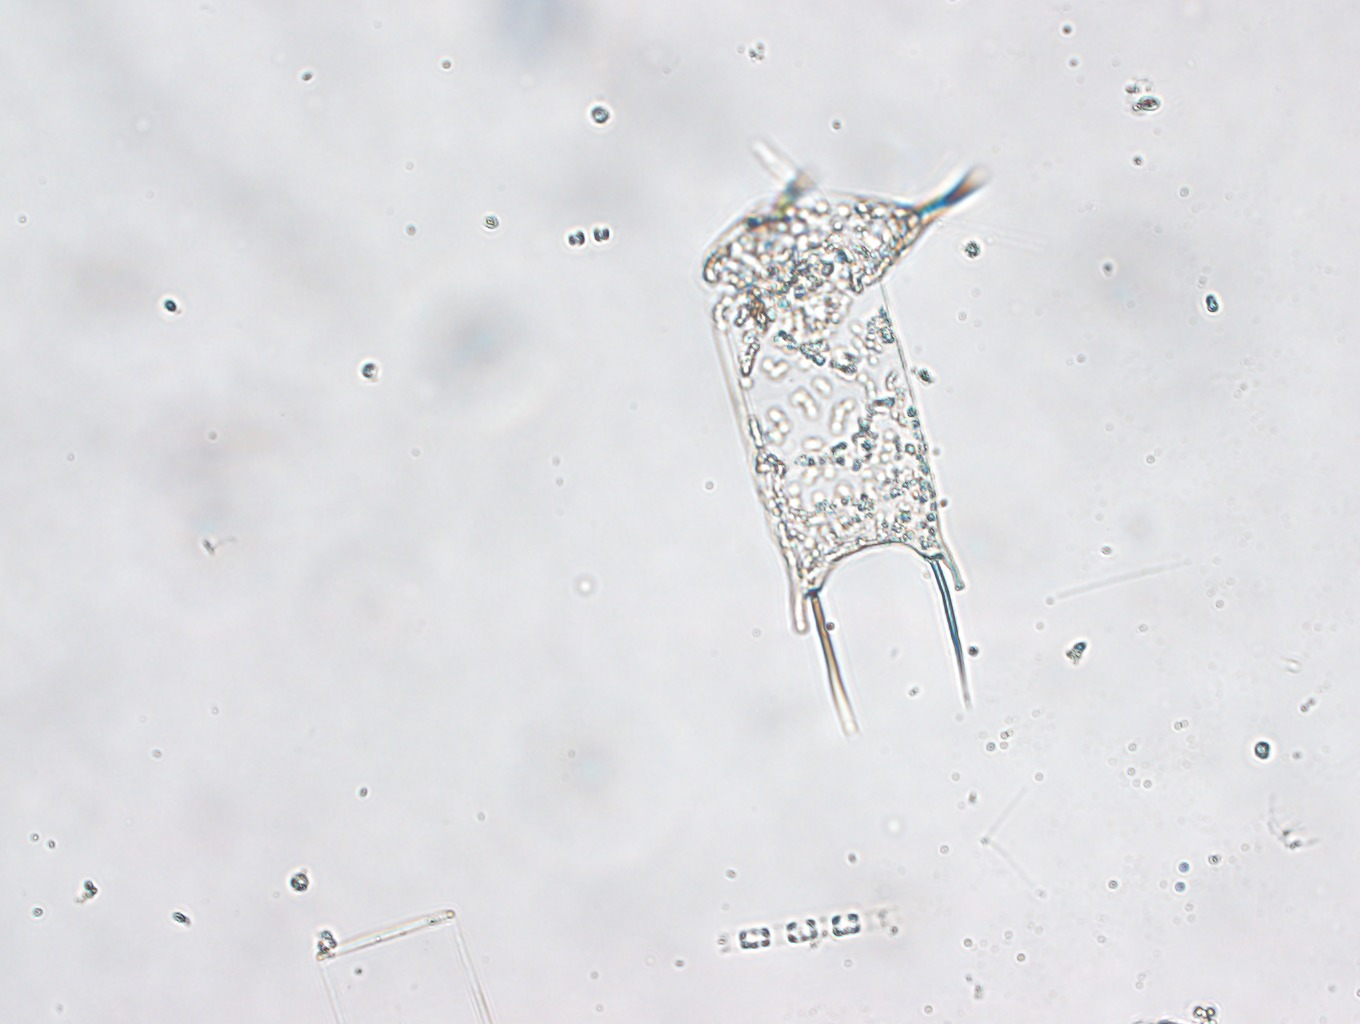biddulphia: (696, 136, 990, 740)
skeletonema: (713, 906, 891, 951)
